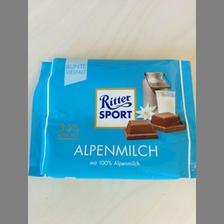Schokolade: (28, 58, 194, 178)
